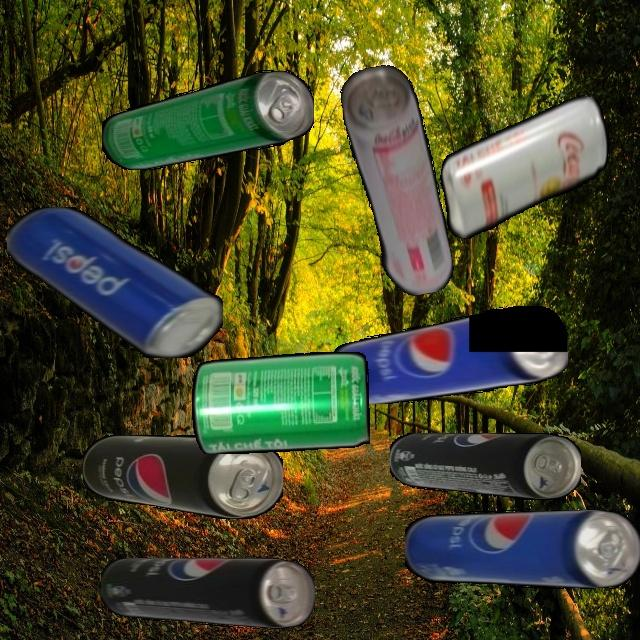debris: (431, 74, 617, 260), (7, 206, 223, 358), (336, 60, 457, 302), (333, 306, 568, 404), (101, 70, 314, 170), (404, 510, 640, 589), (190, 351, 370, 454), (82, 435, 283, 519), (100, 558, 315, 629), (389, 433, 581, 500)
